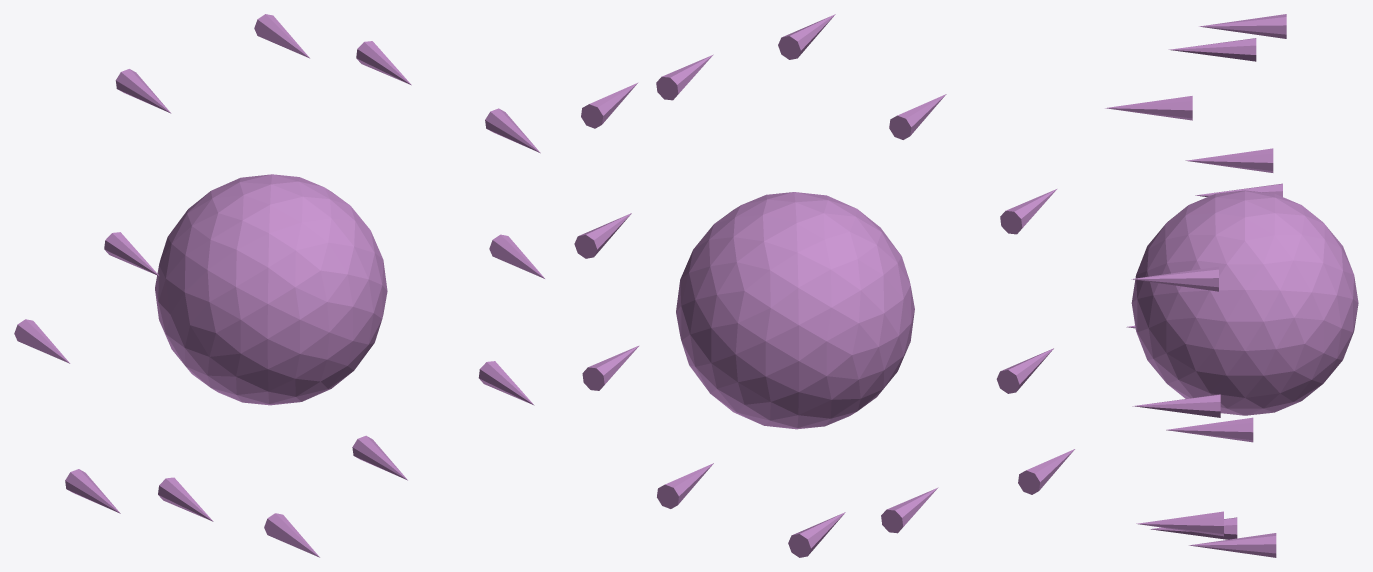
Rendered from nature_168.glb.
The picture shows the model from 3 angles, left to right: view 1: azimuth 30°, elevation 25°; view 2: azimuth 150°, elevation 25°; view 3: azimuth 270°, elevation 25°; orthographic projection. The views are drawn at different scales.
Visible parts, largest first — view 1: world; view 2: world; view 3: world.
Boxes of the visible parts, x1,y1,x2,y2 form: world: [14, 14, 544, 557]; world: [574, 14, 1074, 557]; world: [1105, 14, 1358, 557].
Size of the model in its own units: 2.08 by 2.2 by 1.01.
